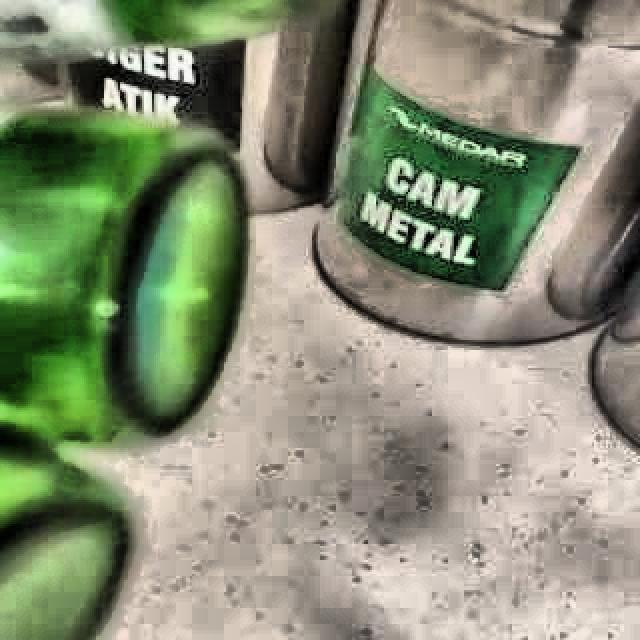glass: (0, 105, 249, 640)
